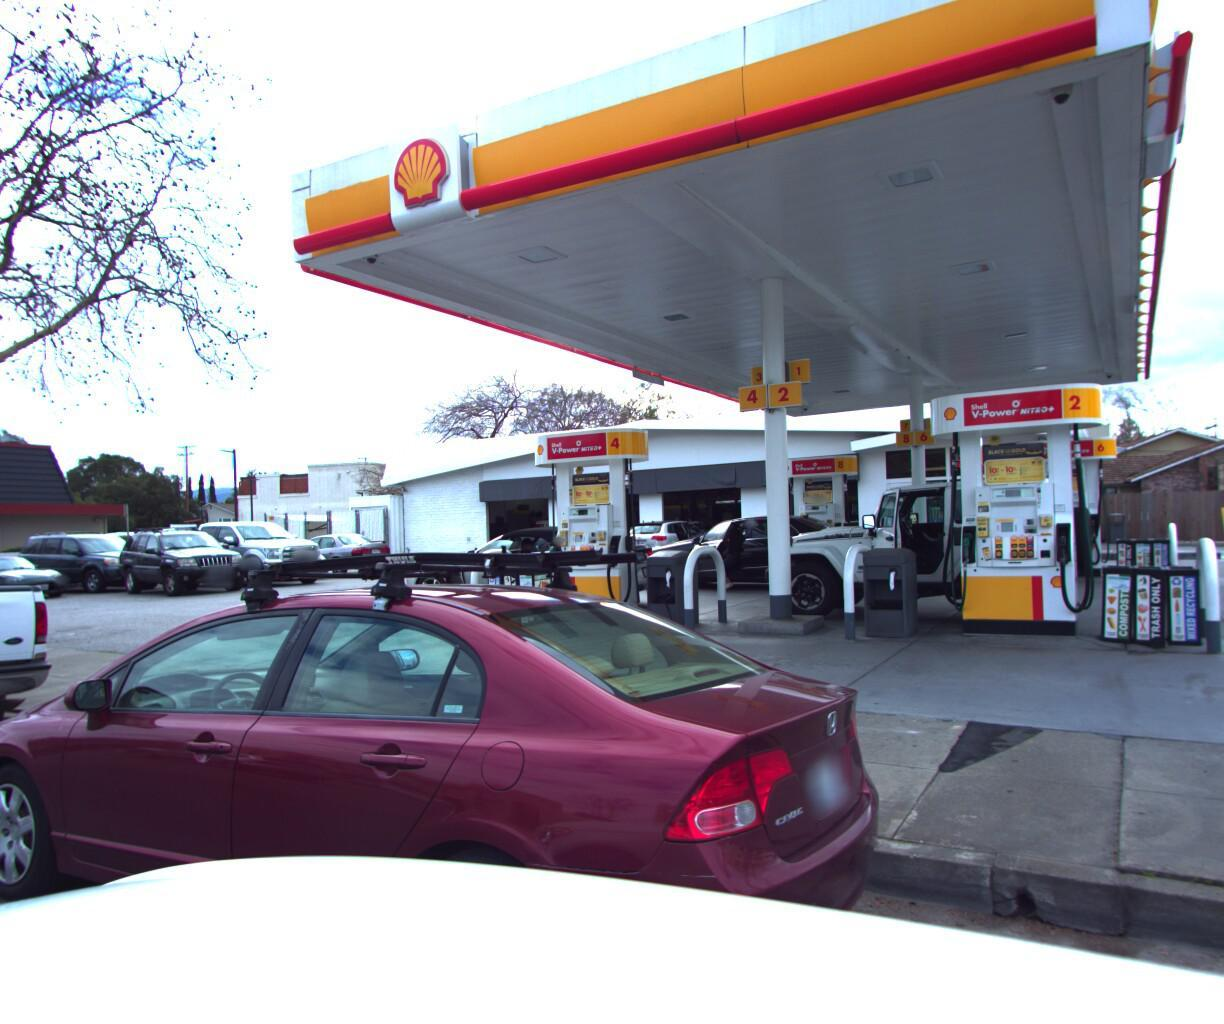car: (0, 529, 932, 1024), (738, 460, 1103, 625), (0, 486, 90, 849), (377, 515, 679, 610), (619, 501, 888, 588), (144, 509, 336, 586), (124, 519, 349, 576), (108, 515, 258, 595), (10, 520, 174, 589), (273, 523, 405, 573), (612, 510, 721, 562), (696, 468, 792, 515), (0, 545, 82, 599), (528, 499, 625, 540), (0, 542, 1, 609)
